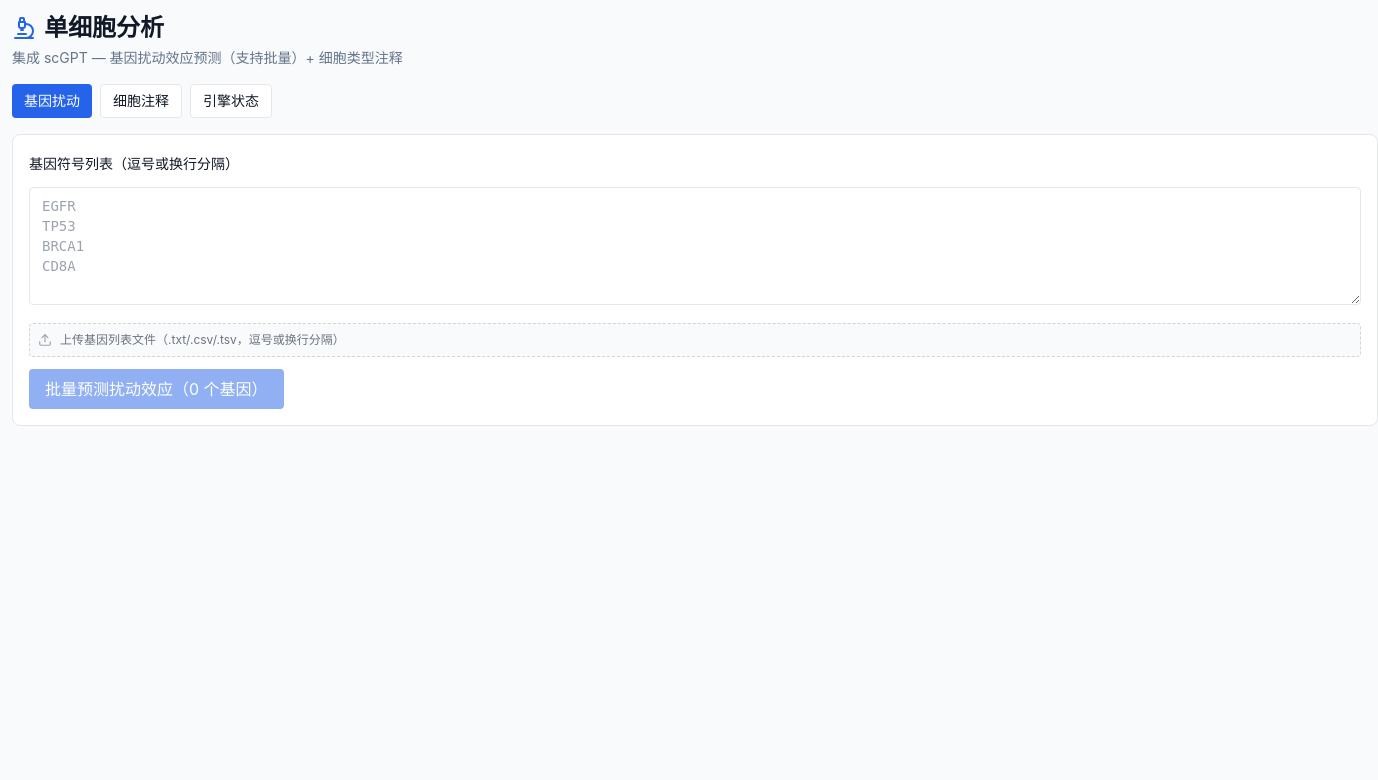
Test: CellsPage › predictPerturbation 失败时显示错误提示
In the text box with placeholder "EGFR TP53 BRCA1 CD8A": (695, 246) top-left (29, 187), bottom-right (1361, 305), type "EGFR"
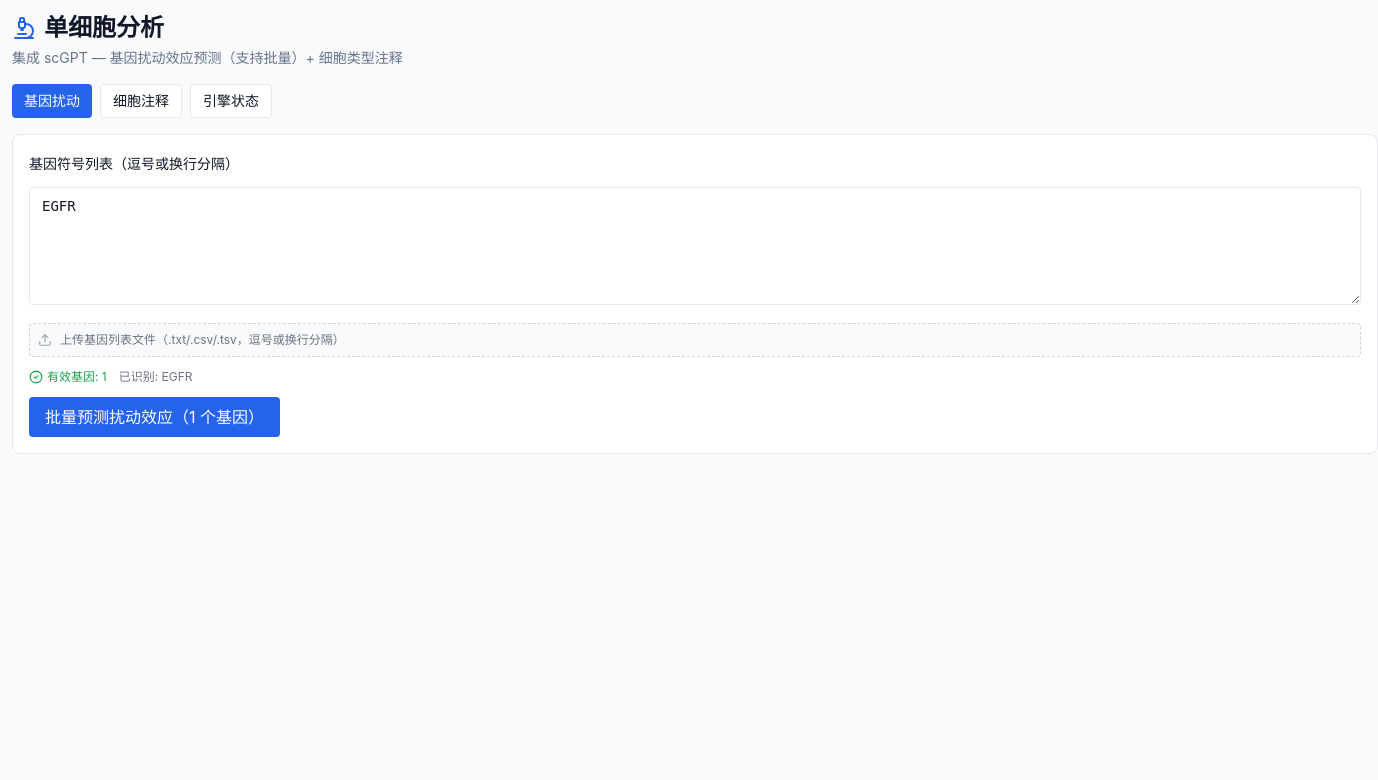
Click the button "批量预测扰动效应（1 个基因）": (154, 417) top-left (29, 397), bottom-right (280, 437)
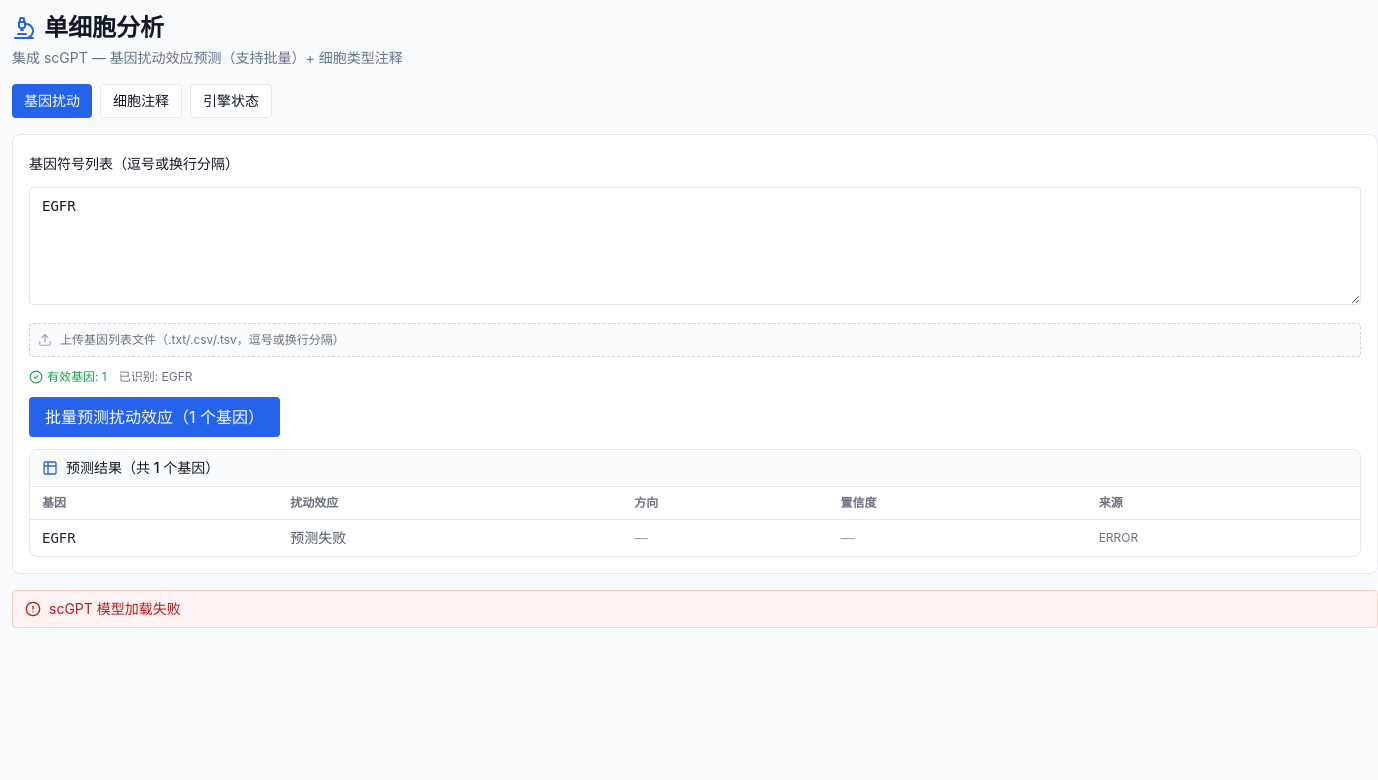
Expected: the text "scGPT 模型加载失败" is shown, top-left (12, 590), bottom-right (1377, 628)
